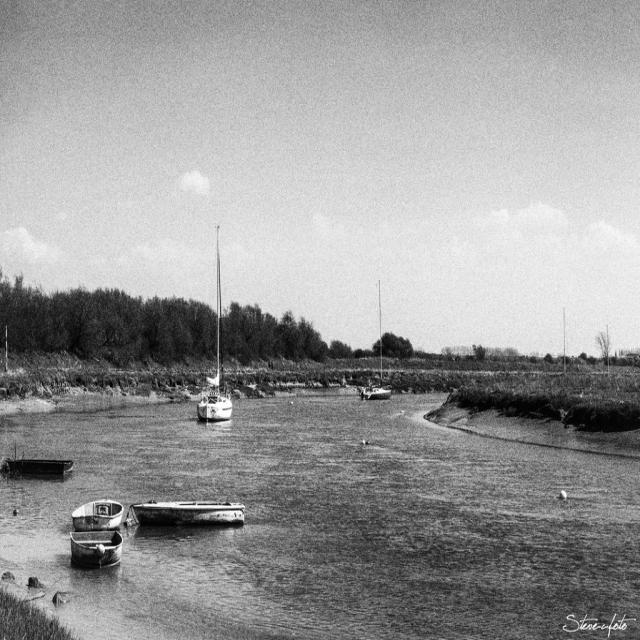Boat: (194, 222, 233, 428), (128, 496, 246, 529), (360, 274, 391, 398), (67, 526, 123, 564), (72, 494, 123, 535), (4, 456, 75, 473), (555, 306, 569, 376)
